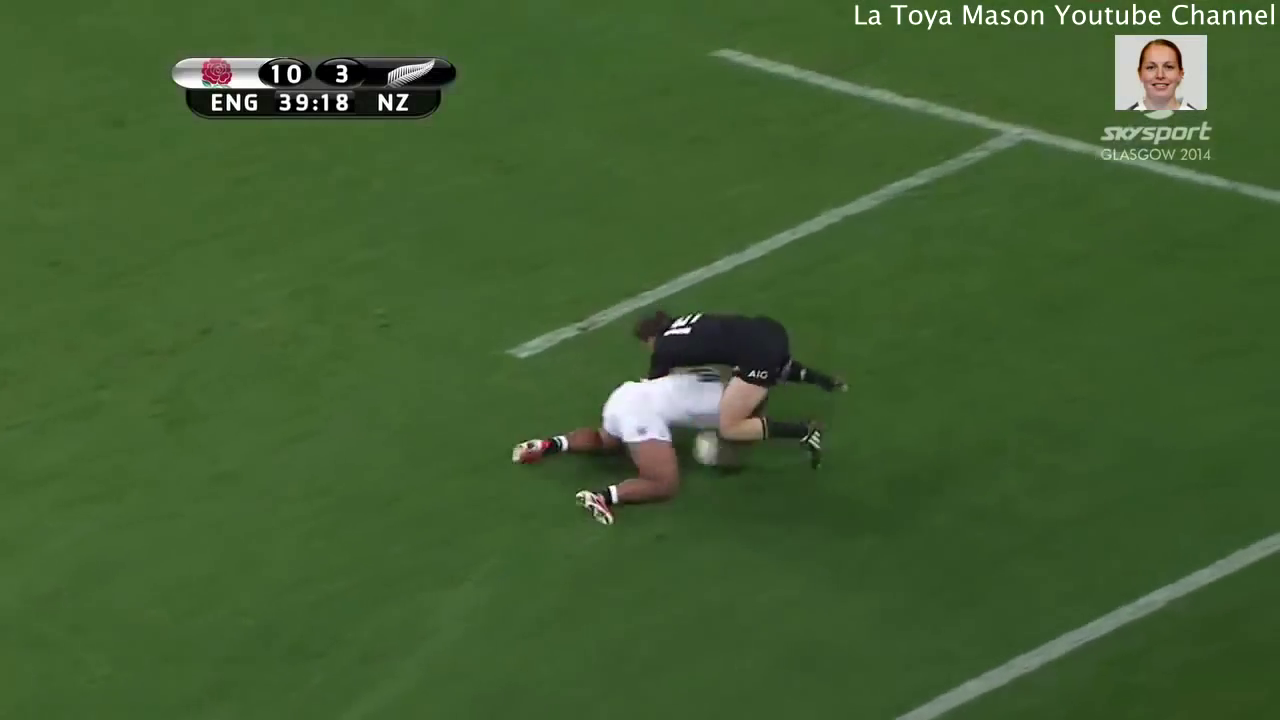ball: (687, 415, 734, 489)
player: (506, 365, 752, 536), (620, 300, 842, 472)
ruck: (494, 261, 854, 542)
